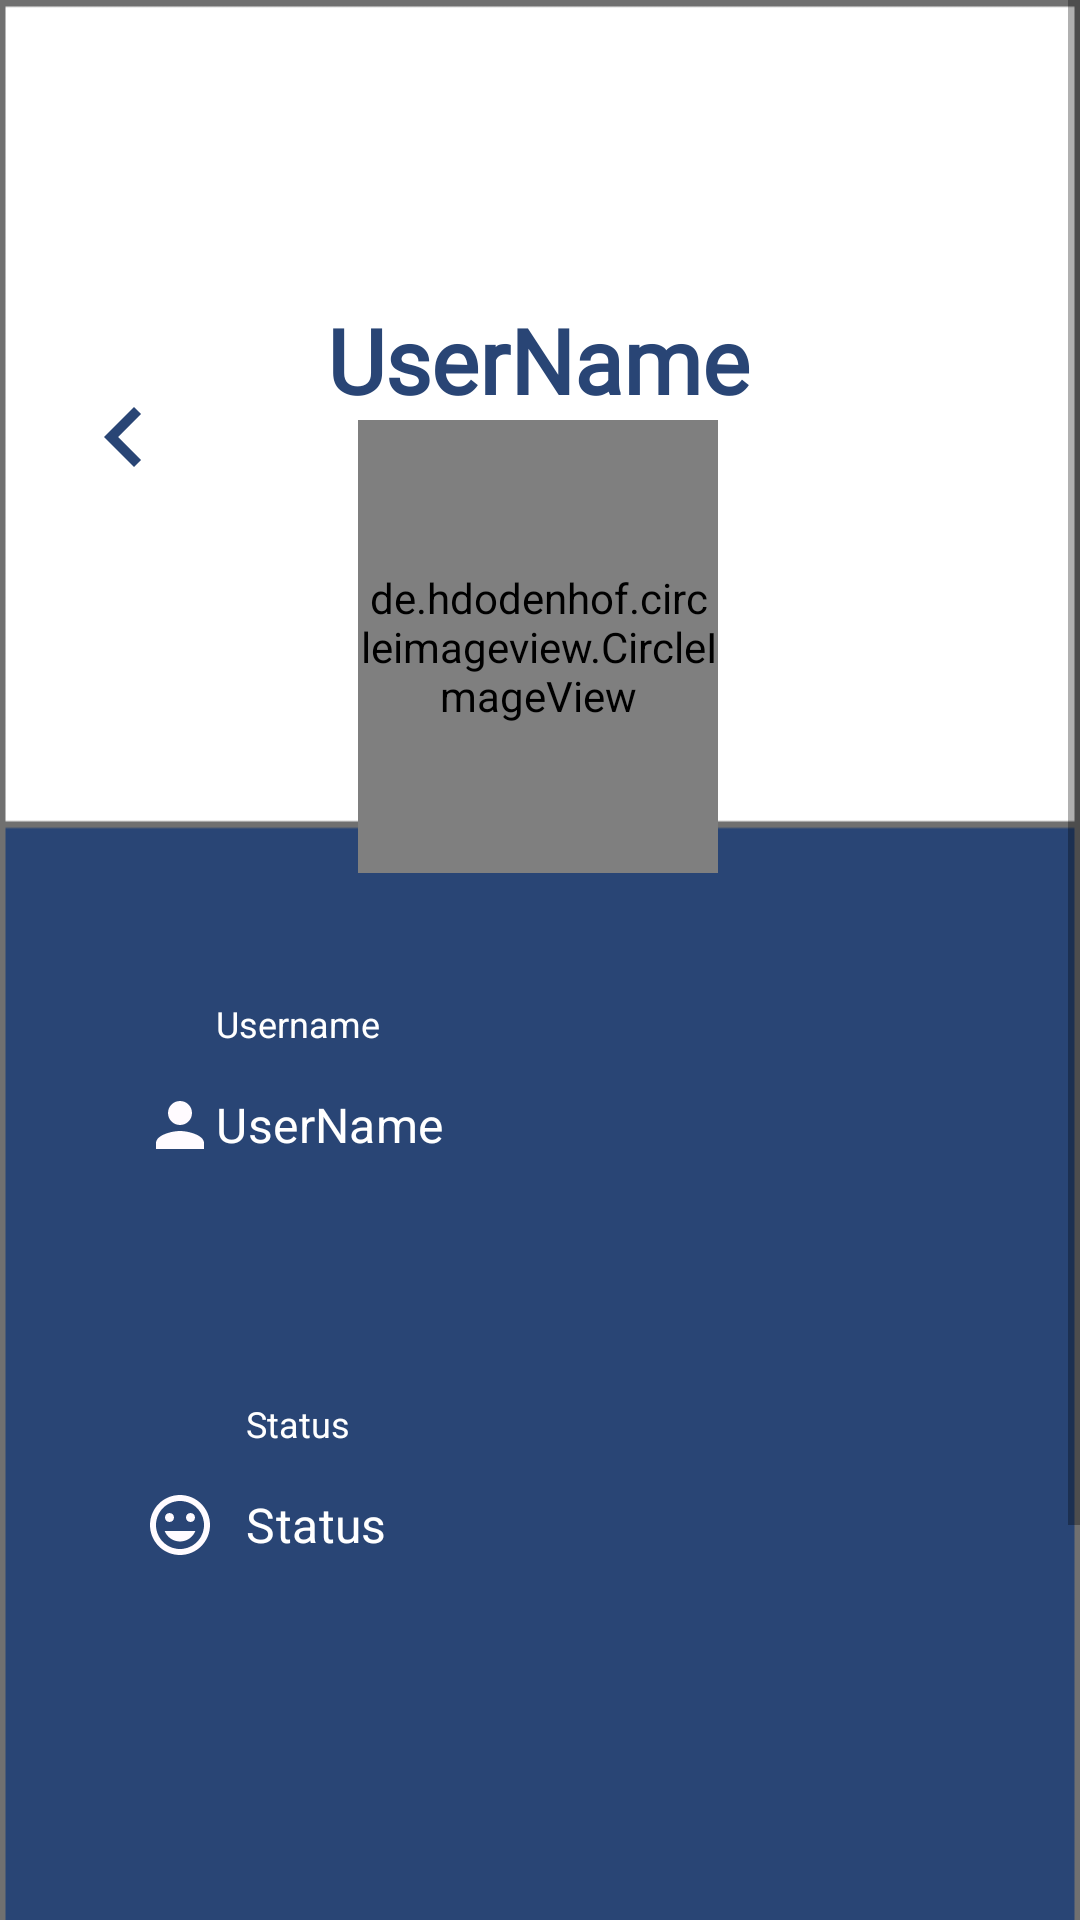

Point at icon controls on the screen. Image size 1080x1920, points as point (x, y).
chevron left: point (122, 437)
